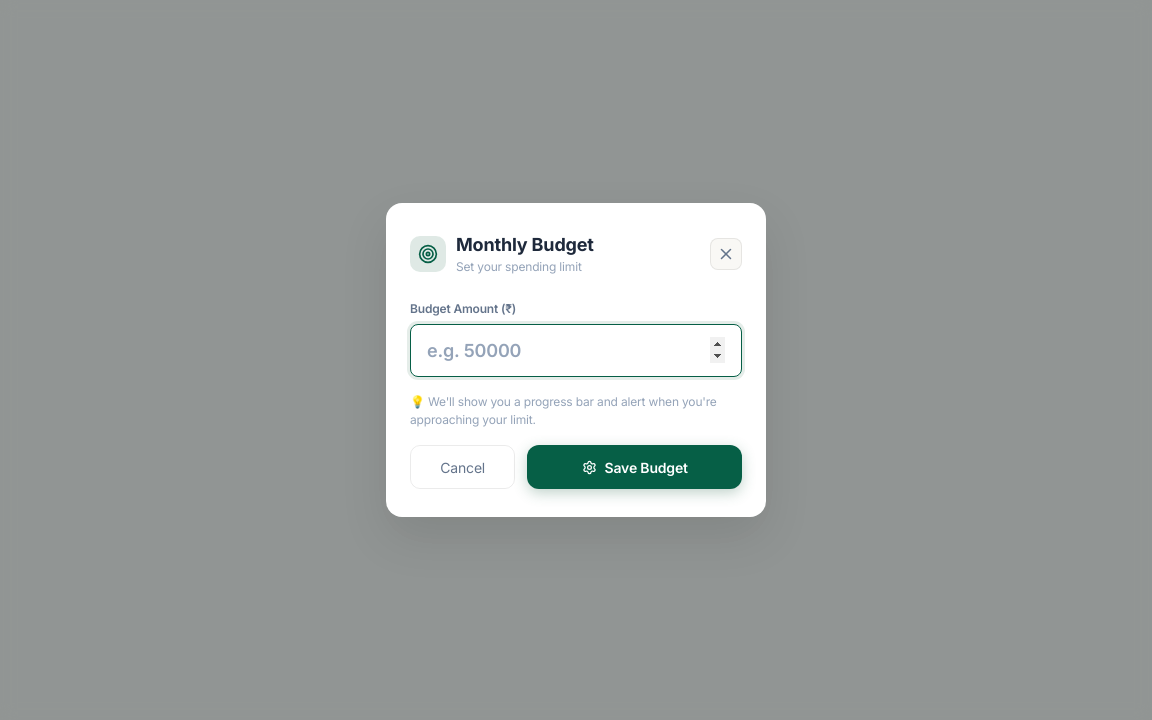
Test case: Modal Components › BudgetModal › validates budget amount
Click the button "Save Budget" at {"x": 635, "y": 467}, box [527,445,742,489]
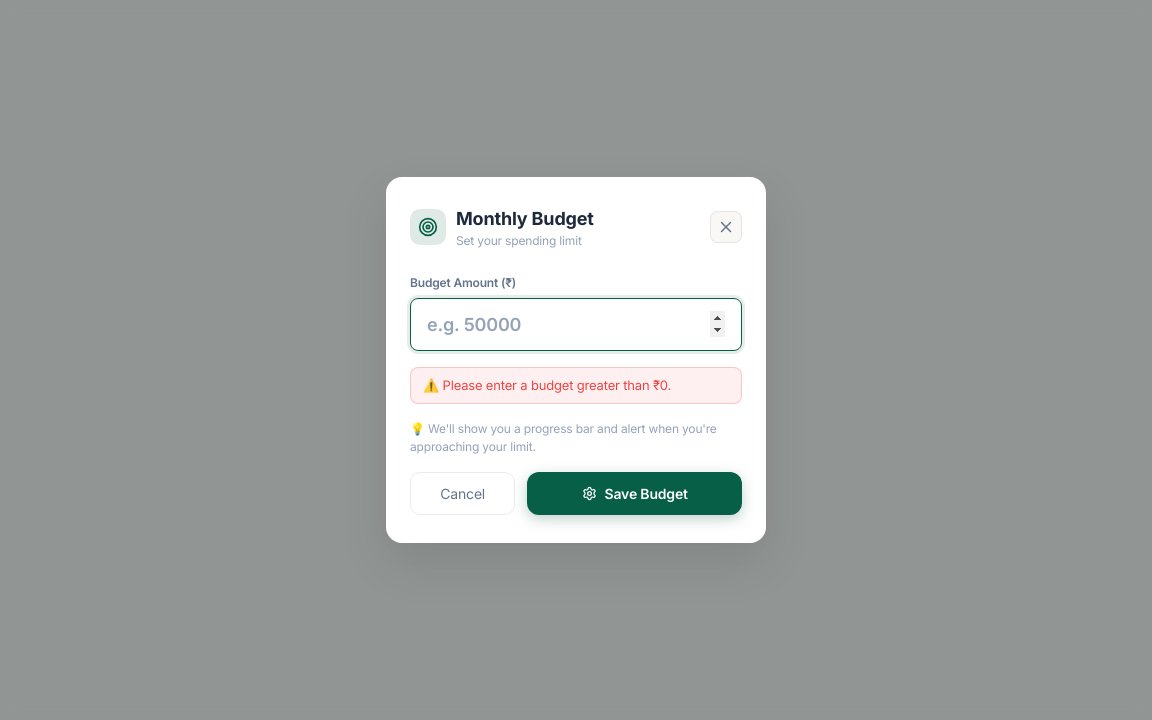
Now the text "⚠️ Please enter a budget greater than ₹0." is shown, box [410,367,742,404]
